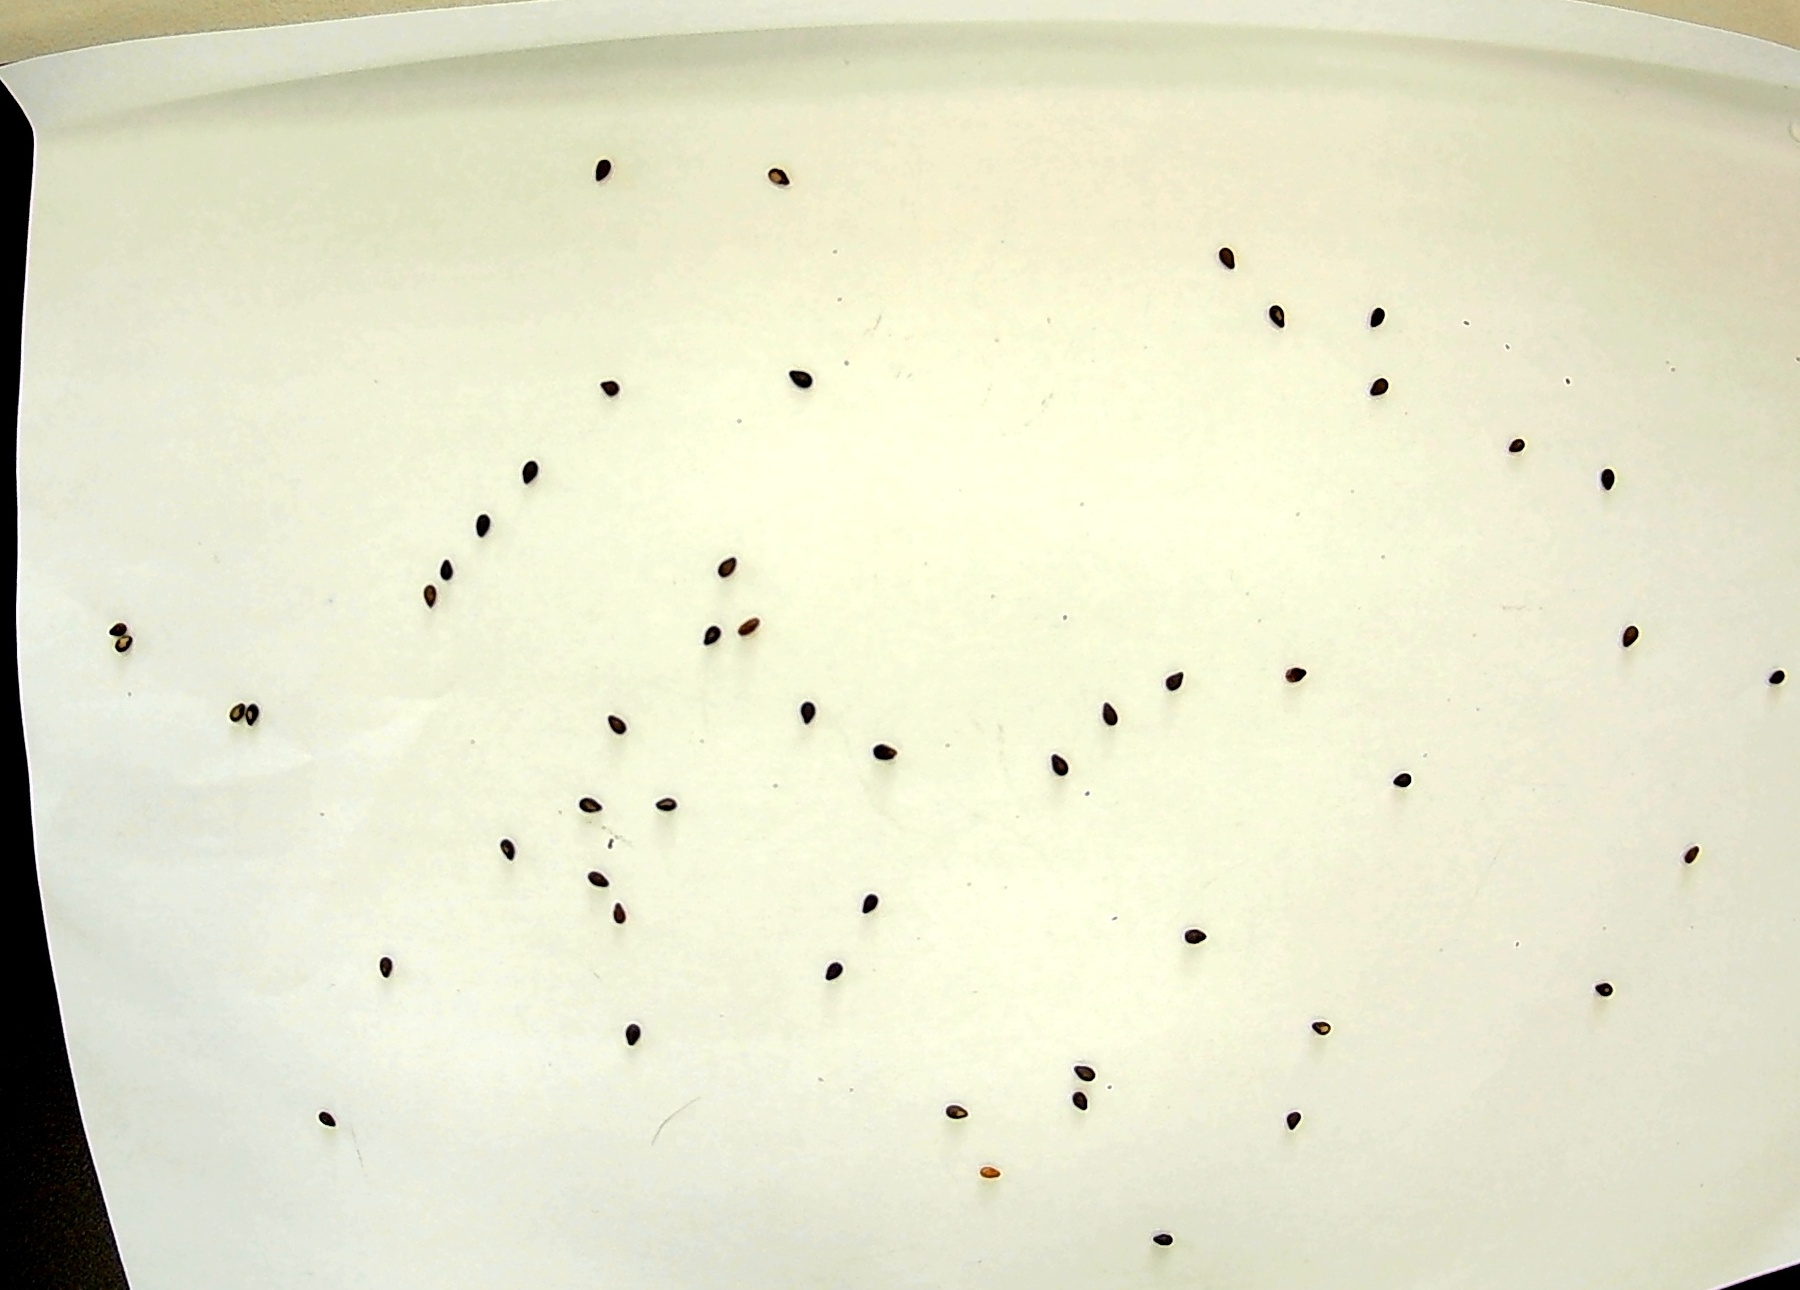sesami: (593, 701, 635, 746), (368, 947, 407, 988), (1173, 921, 1218, 954), (493, 831, 526, 873), (865, 737, 906, 769), (1270, 297, 1296, 342), (1591, 462, 1626, 496), (1095, 699, 1130, 732), (767, 154, 800, 187), (1147, 1231, 1187, 1258), (854, 889, 887, 920), (580, 861, 611, 895), (1616, 610, 1640, 653), (1681, 835, 1711, 870), (1284, 1106, 1314, 1138), (975, 1157, 1007, 1187), (1049, 748, 1079, 780), (788, 695, 818, 727), (578, 793, 610, 822), (1210, 243, 1238, 276), (793, 357, 819, 392), (1284, 660, 1316, 688), (1767, 665, 1800, 691), (938, 1104, 977, 1127), (698, 620, 726, 651), (611, 898, 635, 933), (419, 572, 438, 614), (1503, 431, 1532, 459), (643, 793, 682, 814), (1065, 1090, 1097, 1115), (518, 450, 541, 483), (1303, 1019, 1347, 1037), (433, 549, 455, 584), (818, 958, 846, 986), (714, 549, 741, 577), (1367, 311, 1397, 336), (737, 616, 765, 641), (247, 697, 265, 734), (592, 158, 627, 177), (469, 511, 493, 539), (1391, 772, 1425, 792), (589, 378, 627, 395), (314, 1113, 342, 1135), (622, 1021, 640, 1054), (1365, 371, 1388, 396), (1067, 1061, 1095, 1081), (114, 635, 138, 658), (1162, 669, 1185, 691), (1595, 980, 1619, 1001), (227, 697, 243, 727), (100, 623, 128, 631)
